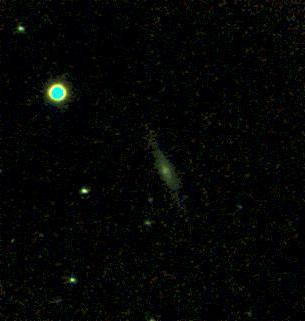star: (65, 174, 95, 204)
